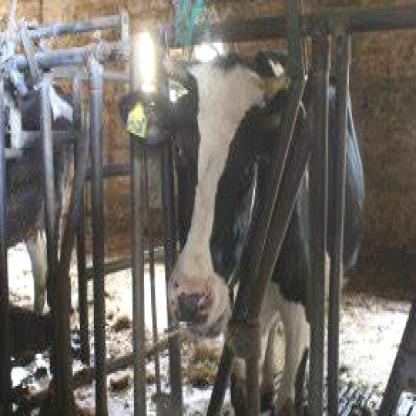cow: (116, 51, 366, 414)
